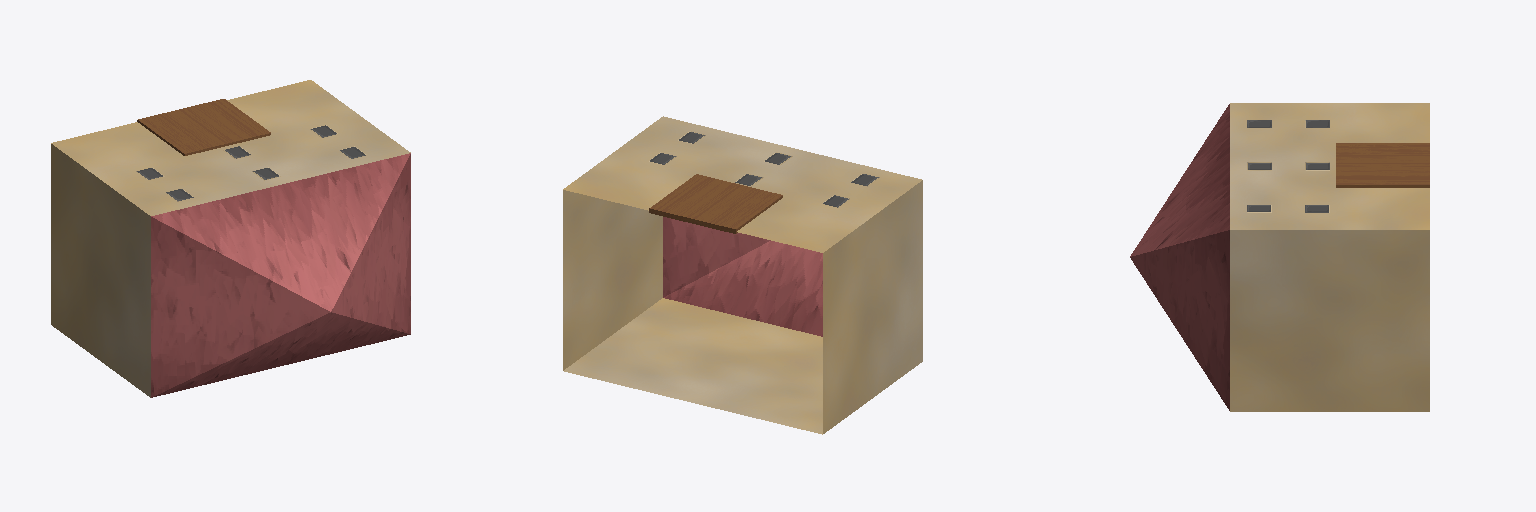
The picture shows the model from 3 angles: view 1: azimuth 30°, elevation 25°; view 2: azimuth 150°, elevation 25°; view 3: azimuth 270°, elevation 25°; orthographic projection.
Parts seen in each view (by area): view 1: House, Frame; view 2: House, Frame; view 3: House, Frame.
Part boxes in pixels (x1,y1,x2,y2): House: (51, 80, 410, 397); Frame: (137, 99, 270, 155); House: (563, 116, 922, 434); Frame: (649, 174, 782, 233); House: (1130, 103, 1429, 411); Frame: (1336, 143, 1429, 187).
Size of the model in its own units: 6 by 4.05 by 6.
2 materials, 2 textured.